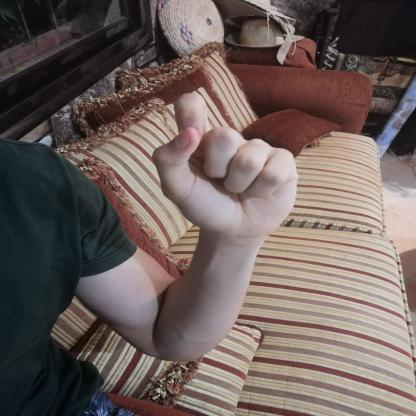FAA: (139, 84, 316, 252)
